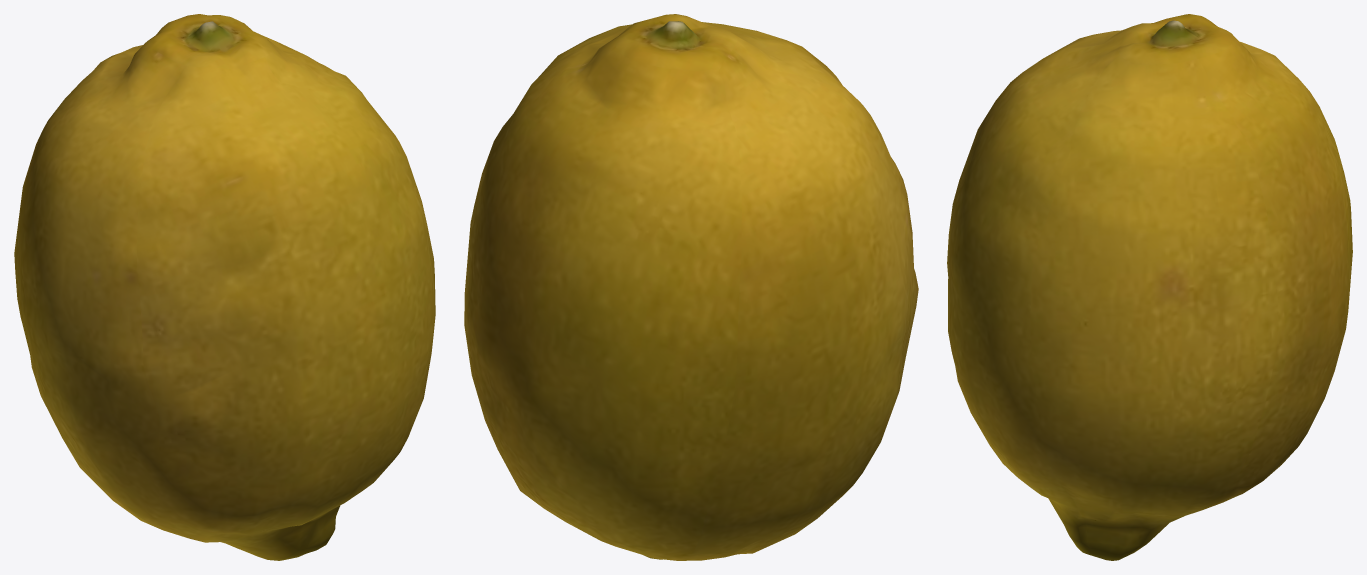
File: lemon.glb
The picture shows the model from 3 angles, left to right: view 1: azimuth 30°, elevation 25°; view 2: azimuth 150°, elevation 25°; view 3: azimuth 270°, elevation 25°; orthographic projection. The views are drawn at different scales.
Visible parts, largest first — view 1: lemon; view 2: lemon; view 3: lemon.
Part boxes in pixels (x1,y1,x2,y2): lemon: [14, 14, 435, 560]; lemon: [464, 14, 918, 560]; lemon: [947, 14, 1352, 560].
Bounding box in the file's own units: 0.0686 × 0.0953 × 0.0682.
Materials: 1 (1 with a texture image).
